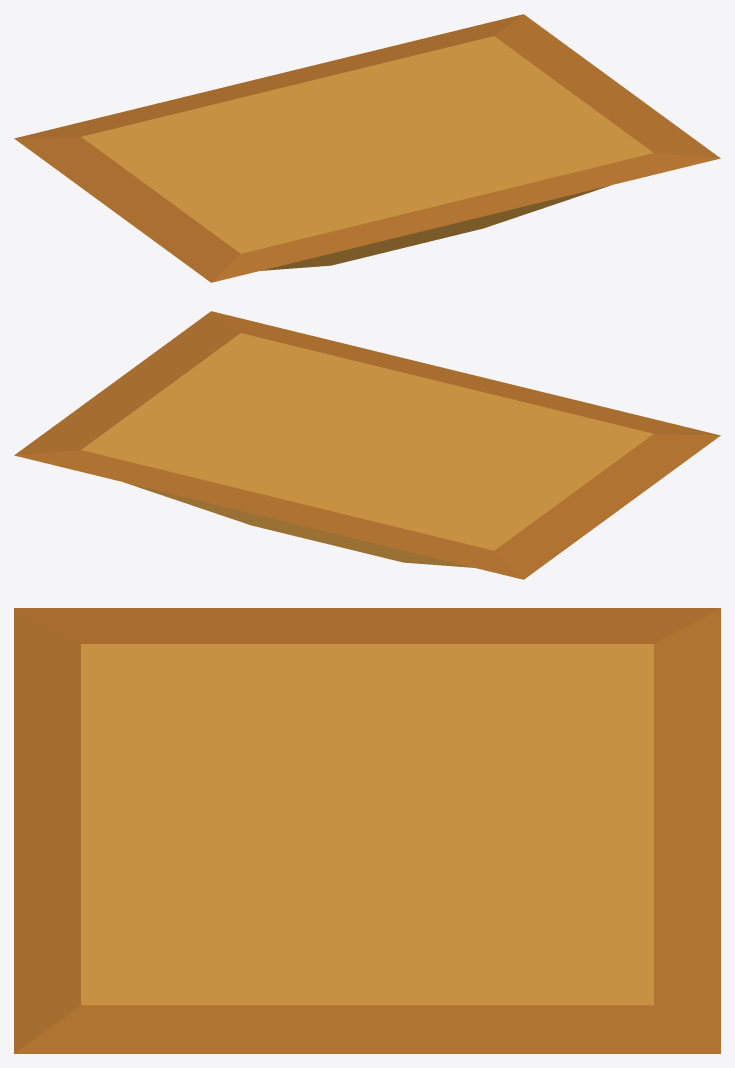
Rendered from medium_platform.glb.
3 views of the same model, one above another, from view 1: azimuth 30°, elevation 25°; view 2: azimuth 150°, elevation 25°; view 3: azimuth 270°, elevation 25° (orthographic). The views are drawn at different scales.
Parts seen in each view (by area): view 1: Cube; view 2: Cube; view 3: Cube.
Part boxes in pixels (left/top/right/bottom): Cube: left=14, top=14, right=720, bottom=282; Cube: left=14, top=311, right=720, bottom=579; Cube: left=14, top=608, right=720, bottom=1053.
Size of the model in its own units: 3.58 by 0.4893 by 2.4.
